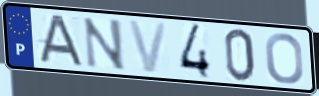0: (222, 27, 258, 84)
4: (176, 22, 215, 81)
A: (35, 14, 87, 69)
N: (81, 16, 128, 72)
O: (263, 31, 306, 86)
V: (126, 18, 170, 75)
